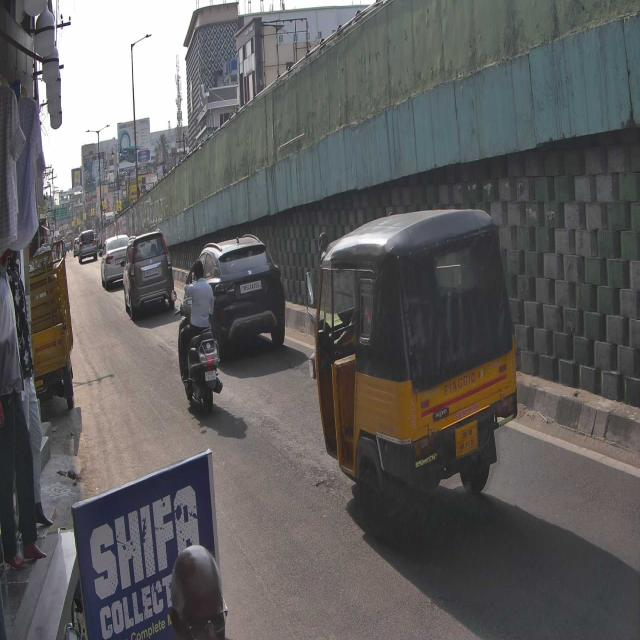single_rider: (171, 261, 226, 417)
